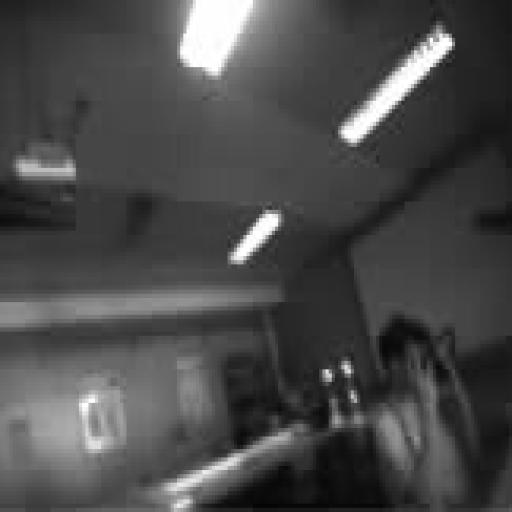human: (370, 315, 477, 511)
